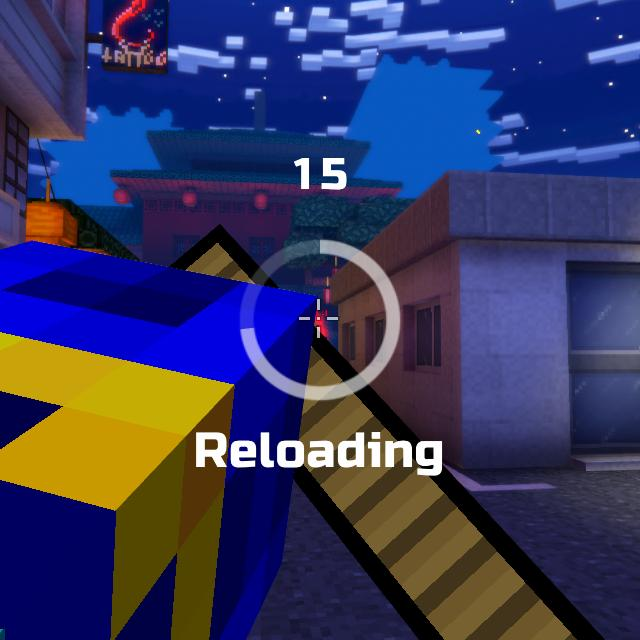Enemy: (313, 322, 327, 339)
